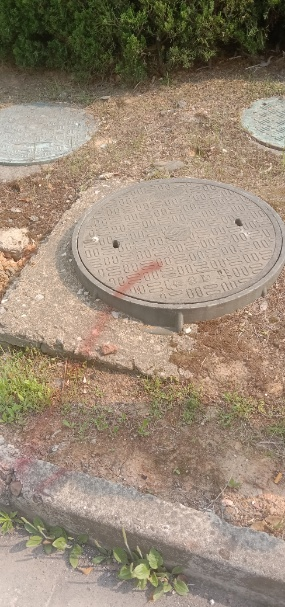well: (72, 178, 285, 309), (0, 101, 93, 164)
